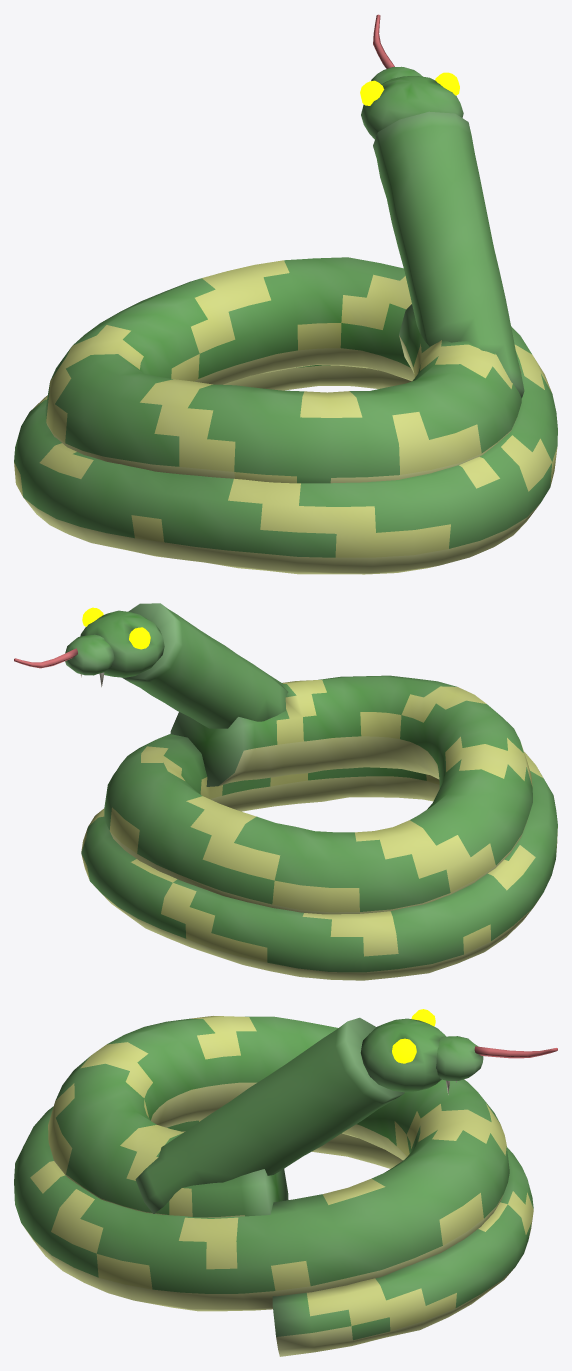
3 renders of one model, top to bottom at view 1: azimuth 30°, elevation 25°; view 2: azimuth 150°, elevation 25°; view 3: azimuth 270°, elevation 25°, orthographic. The views are drawn at different scales.
Visible parts, largest first — view 1: torso, head; view 2: torso, head; view 3: torso, head.
Boxes of the visible parts, <box> form: torso: <box>14,257,557,574</box>; head: <box>360,14,524,397</box>; torso: <box>81,675,557,980</box>; head: <box>14,603,288,728</box>; torso: <box>14,1016,533,1356</box>; head: <box>135,1009,557,1213</box>.
Size of the model in its own units: 0.6646 by 0.4279 by 0.6757.
